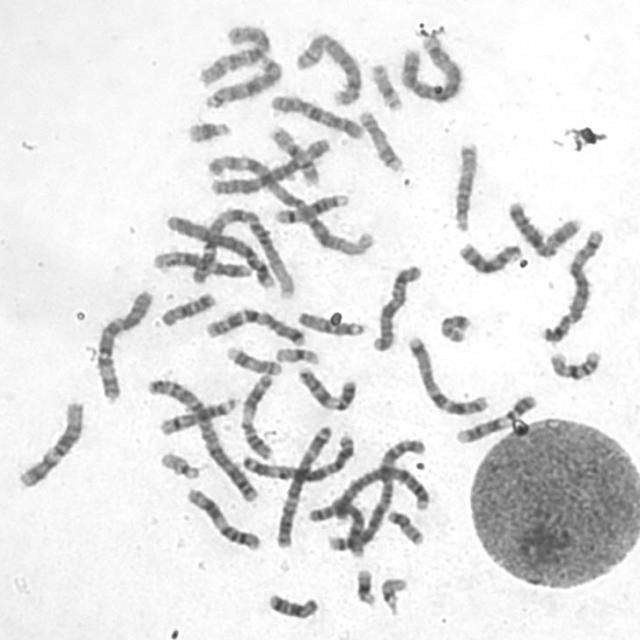A1: (202, 149, 375, 258), (189, 207, 297, 300)
A2: (142, 374, 260, 504), (324, 434, 430, 556)
A3: (271, 421, 337, 550), (238, 430, 357, 483)
B4: (160, 208, 278, 291), (332, 465, 431, 527)
B5: (538, 226, 607, 347), (395, 31, 467, 103)
C10: (194, 19, 273, 88), (266, 90, 366, 140)
C11: (181, 483, 264, 553), (236, 370, 278, 461)
C12: (12, 395, 87, 490), (145, 245, 273, 283)
C6: (207, 132, 331, 196), (90, 285, 156, 404)
C7: (403, 331, 491, 416), (201, 304, 309, 348)
C8: (292, 28, 364, 107), (306, 498, 368, 562)
C9: (452, 390, 540, 446), (292, 362, 358, 414)
D13: (200, 49, 284, 110), (454, 237, 526, 276)
D14: (155, 391, 239, 437), (270, 188, 352, 226)
D15: (447, 137, 480, 234), (293, 306, 367, 338)
E16: (264, 120, 323, 188), (544, 344, 604, 382)
E17: (353, 105, 406, 173), (221, 342, 285, 376)
E18: (156, 287, 217, 328), (264, 589, 320, 621)
F19: (365, 58, 406, 112), (271, 342, 322, 367)
F20: (382, 505, 425, 547), (435, 308, 473, 344)
G21: (183, 115, 233, 145), (351, 564, 379, 608)
G22: (155, 446, 202, 482), (376, 573, 409, 615)
X: (502, 195, 584, 261), (368, 260, 424, 354)
